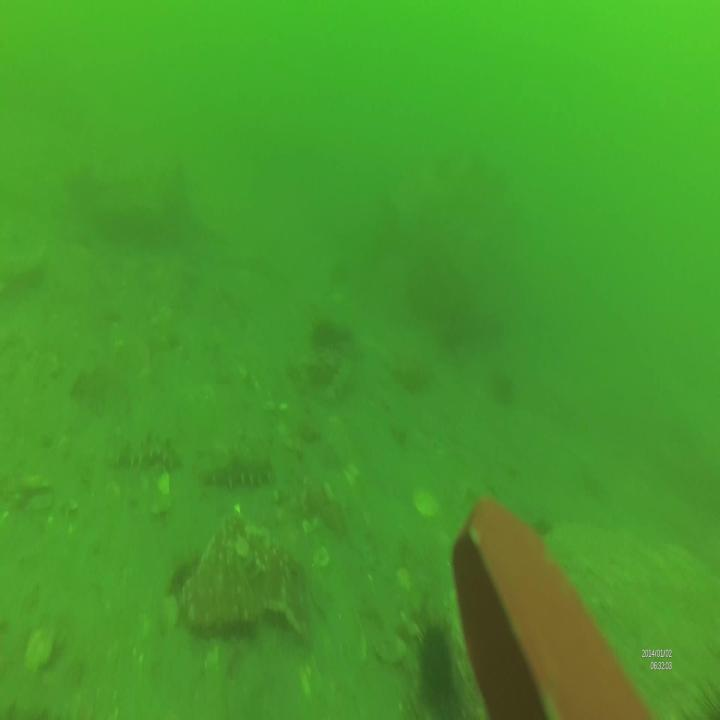echinus: (412, 612, 464, 718)
holothurian: (202, 450, 276, 494), (107, 436, 179, 478)
scallop: (413, 484, 440, 520)
